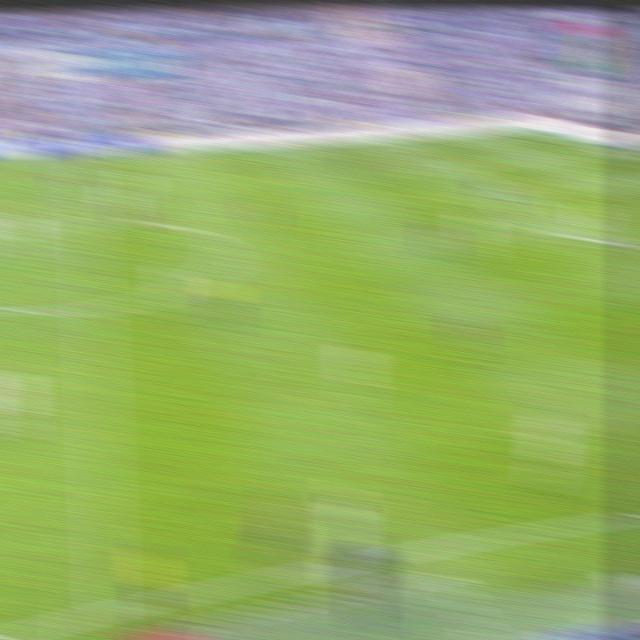bigarea_top_inner: (445, 158, 469, 172)
corner: (523, 125, 548, 138)
halfcircle_bottom: (78, 297, 108, 321)
midline_bottom_intersection: (90, 595, 123, 621)
midline_top_intersection: (72, 153, 97, 167)
top_arc_area_intersection: (505, 186, 530, 201)
